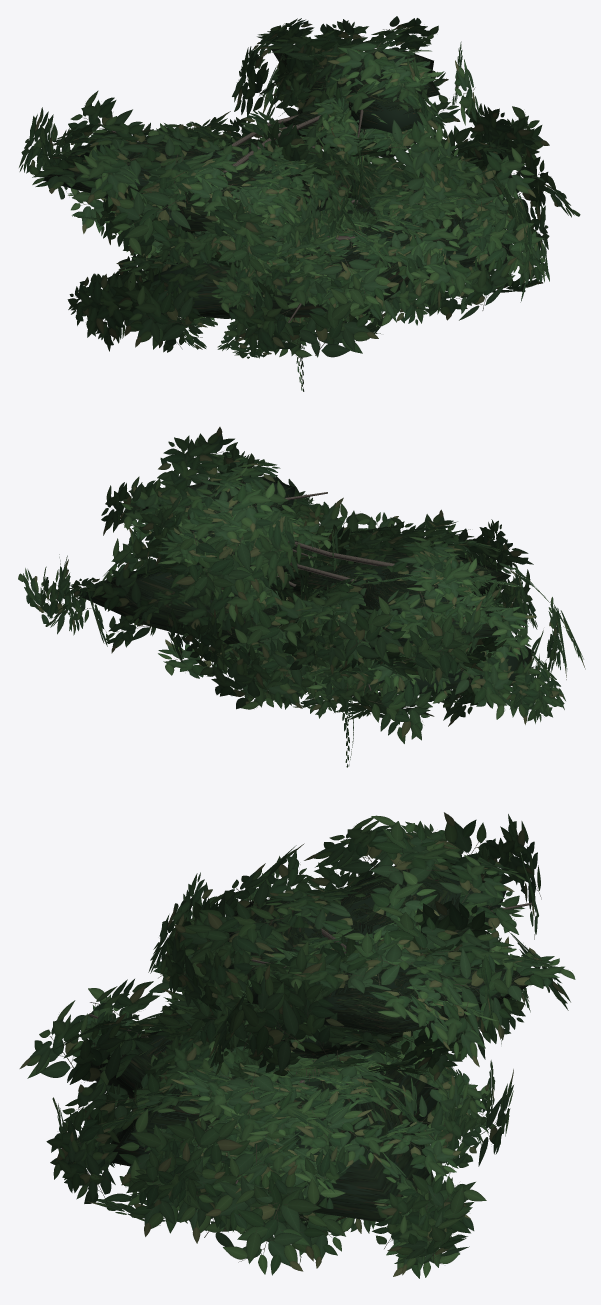
Rendered from canopy_cuyabeno_hp_LOD0.glb.
3 renders of one model, top to bottom at view 1: azimuth 30°, elevation 25°; view 2: azimuth 150°, elevation 25°; view 3: azimuth 270°, elevation 25°, orthographic. The views are drawn at different scales.
Parts seen in each view (by area): view 1: Canopy_Clump_Large_LOD0, Canopy_Clump_Medium_LOD0, Canopy_Clump_Small_LOD0; view 2: Canopy_Clump_Large_LOD0, Canopy_Clump_Medium_LOD0, Canopy_Clump_Small_LOD0; view 3: Canopy_Clump_Large_LOD0, Canopy_Clump_Medium_LOD0, Canopy_Clump_Small_LOD0.
Part boxes in pixels (x1,y1,x2,y2): Canopy_Clump_Large_LOD0: (19, 16, 580, 358); Canopy_Clump_Medium_LOD0: (96, 63, 495, 357); Canopy_Clump_Small_LOD0: (178, 137, 396, 326); Canopy_Clump_Large_LOD0: (18, 427, 585, 724); Canopy_Clump_Medium_LOD0: (149, 476, 528, 743); Canopy_Clump_Small_LOD0: (207, 554, 465, 718); Canopy_Clump_Large_LOD0: (19, 812, 575, 1278); Canopy_Clump_Medium_LOD0: (96, 850, 523, 1246); Canopy_Clump_Small_LOD0: (169, 937, 530, 1232).
Size of the model in its own units: 15.54 by 8.89 by 11.48.
1 material, 1 textured.
